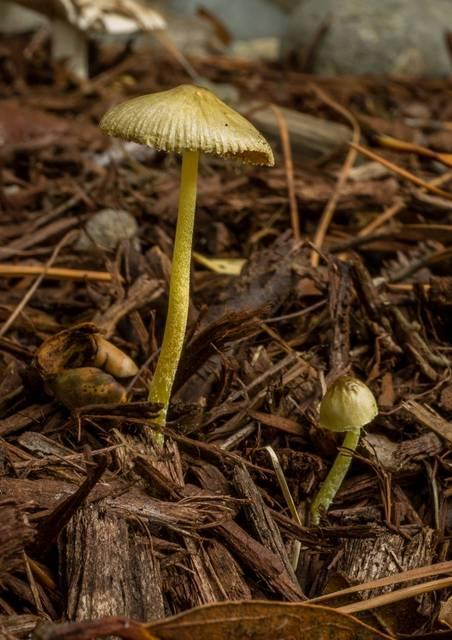edible_mushroom: (97, 82, 275, 447), (306, 368, 386, 479)
